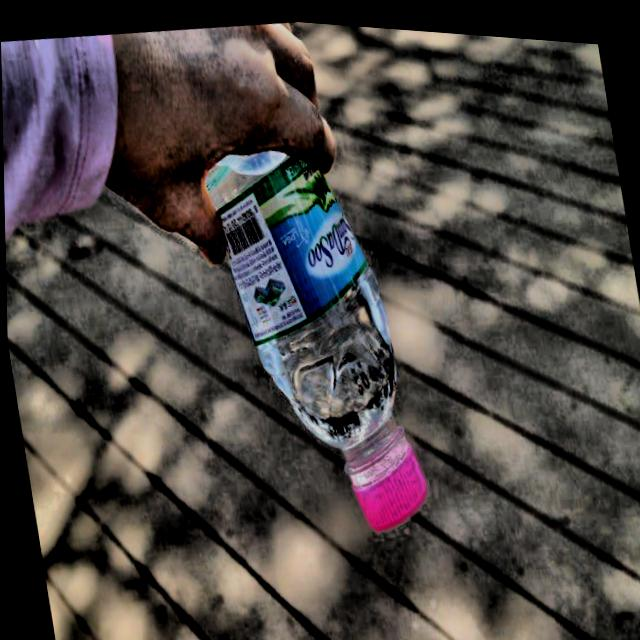Bottles: (185, 98, 450, 568)
